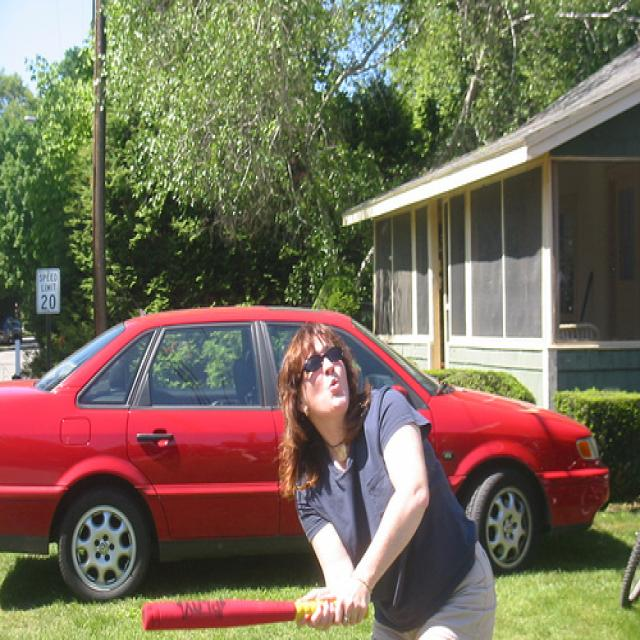light_vehicle: (0, 302, 611, 603)
